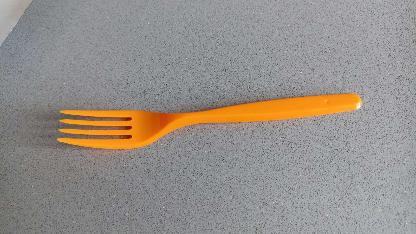Others: (57, 90, 364, 152)
